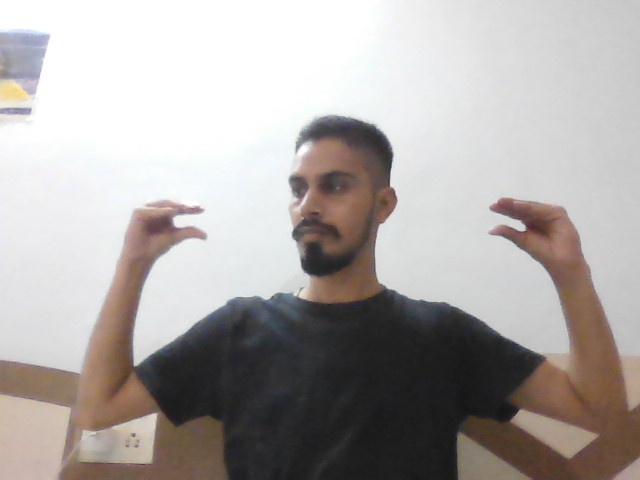No: (479, 190, 600, 272)
